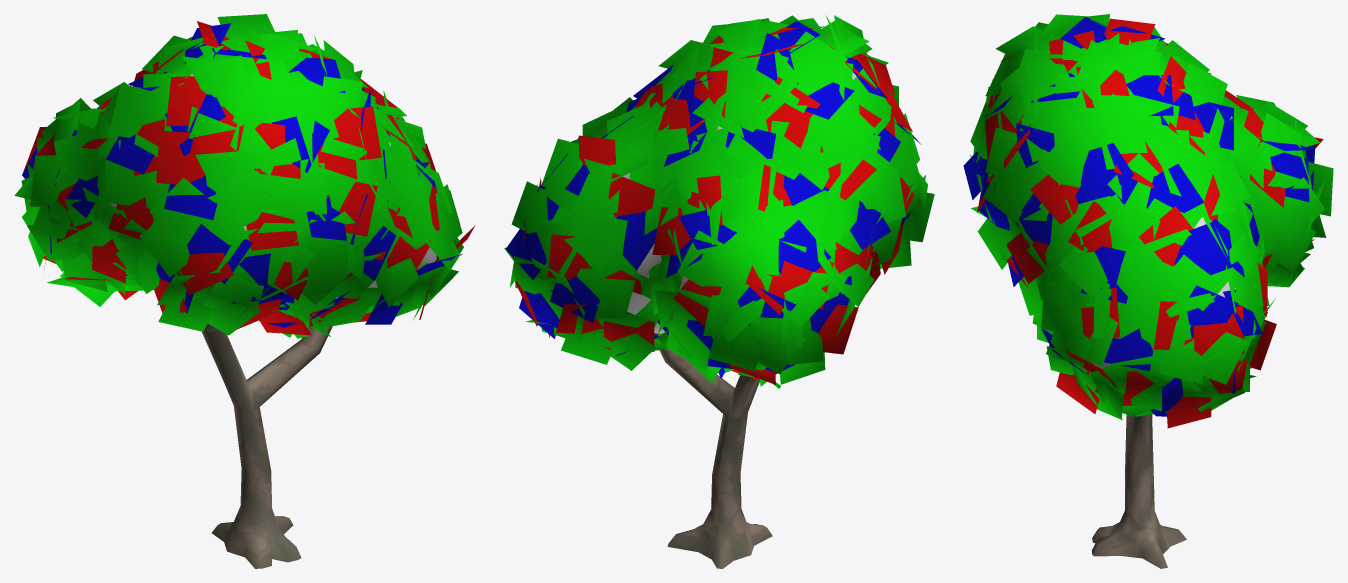
File: obj_tree_small.fbx
3 views of the same model, side by side, from view 1: azimuth 30°, elevation 25°; view 2: azimuth 150°, elevation 25°; view 3: azimuth 270°, elevation 25° (orthographic). The views are drawn at different scales.
Visible parts, largest first — view 1: Circle; view 2: Circle; view 3: Circle.
Part boxes in pixels (x1,y1,x2,y2): Circle: (14,14,475,568); Circle: (504,15,934,568); Circle: (963,14,1333,568).
Size of the model in its own units: 6 by 8.05 by 5.34.
2 materials, 1 textured.
